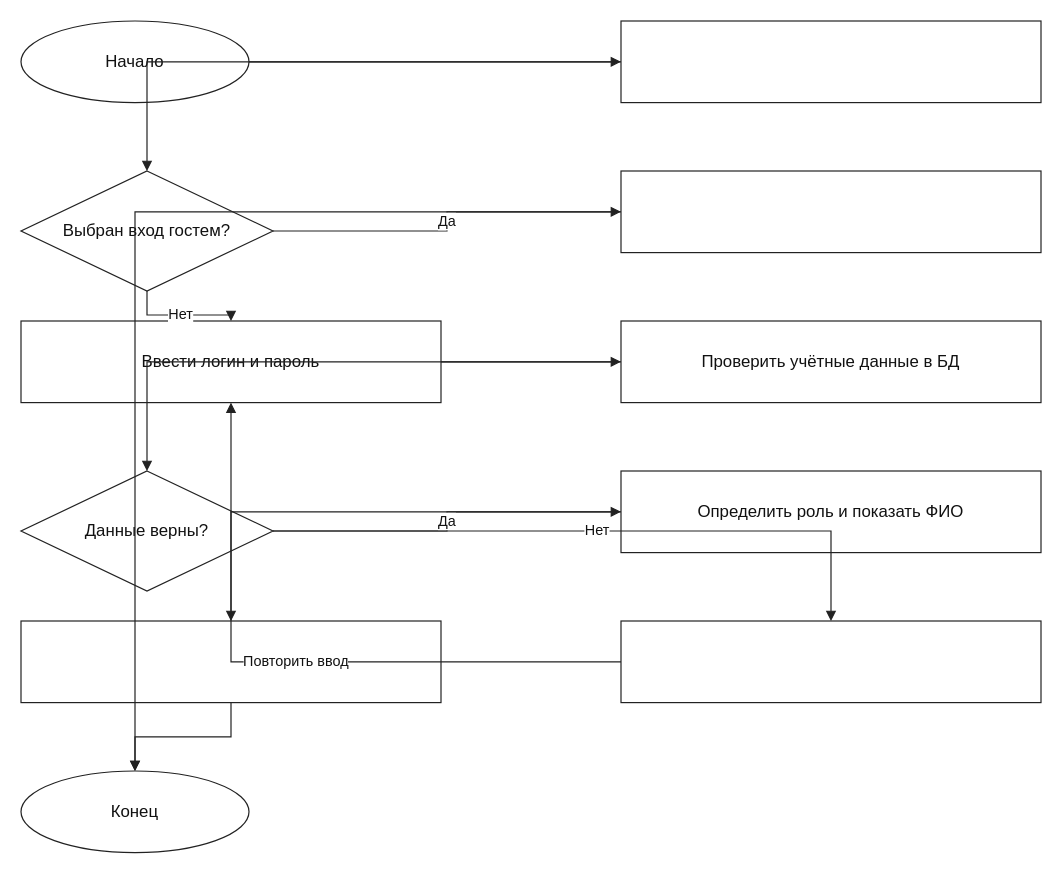
The diagram is 1062 pixels wide and 874 high, and some of its shapes have lost their labels. Each missing label, with the centre of its shape:
Открыть интерфейс роли: (230,661)
Открыть каталог только для просмотра: (830,211)
Показать окно входа: (830,61)
Показать ошибку авторизации: (830,661)
